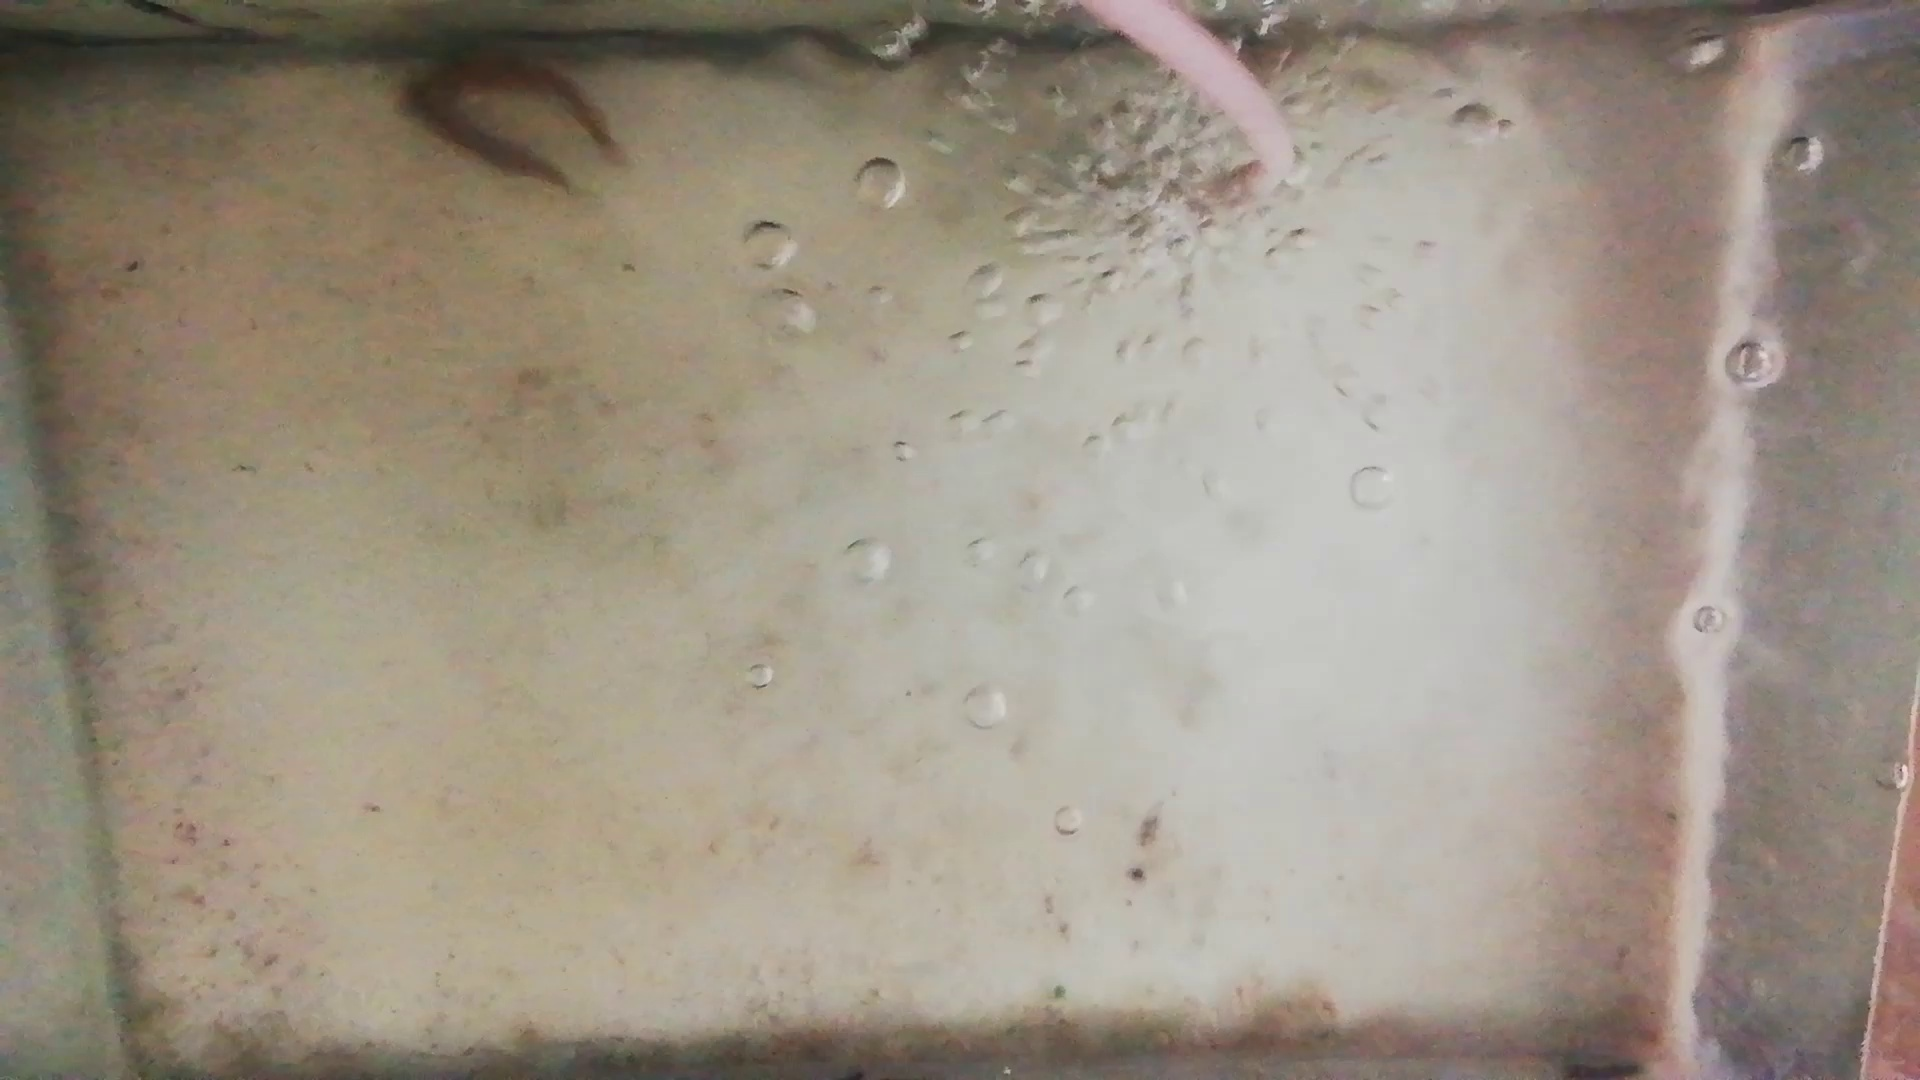fish: (429, 33, 626, 146), (390, 86, 566, 189)
